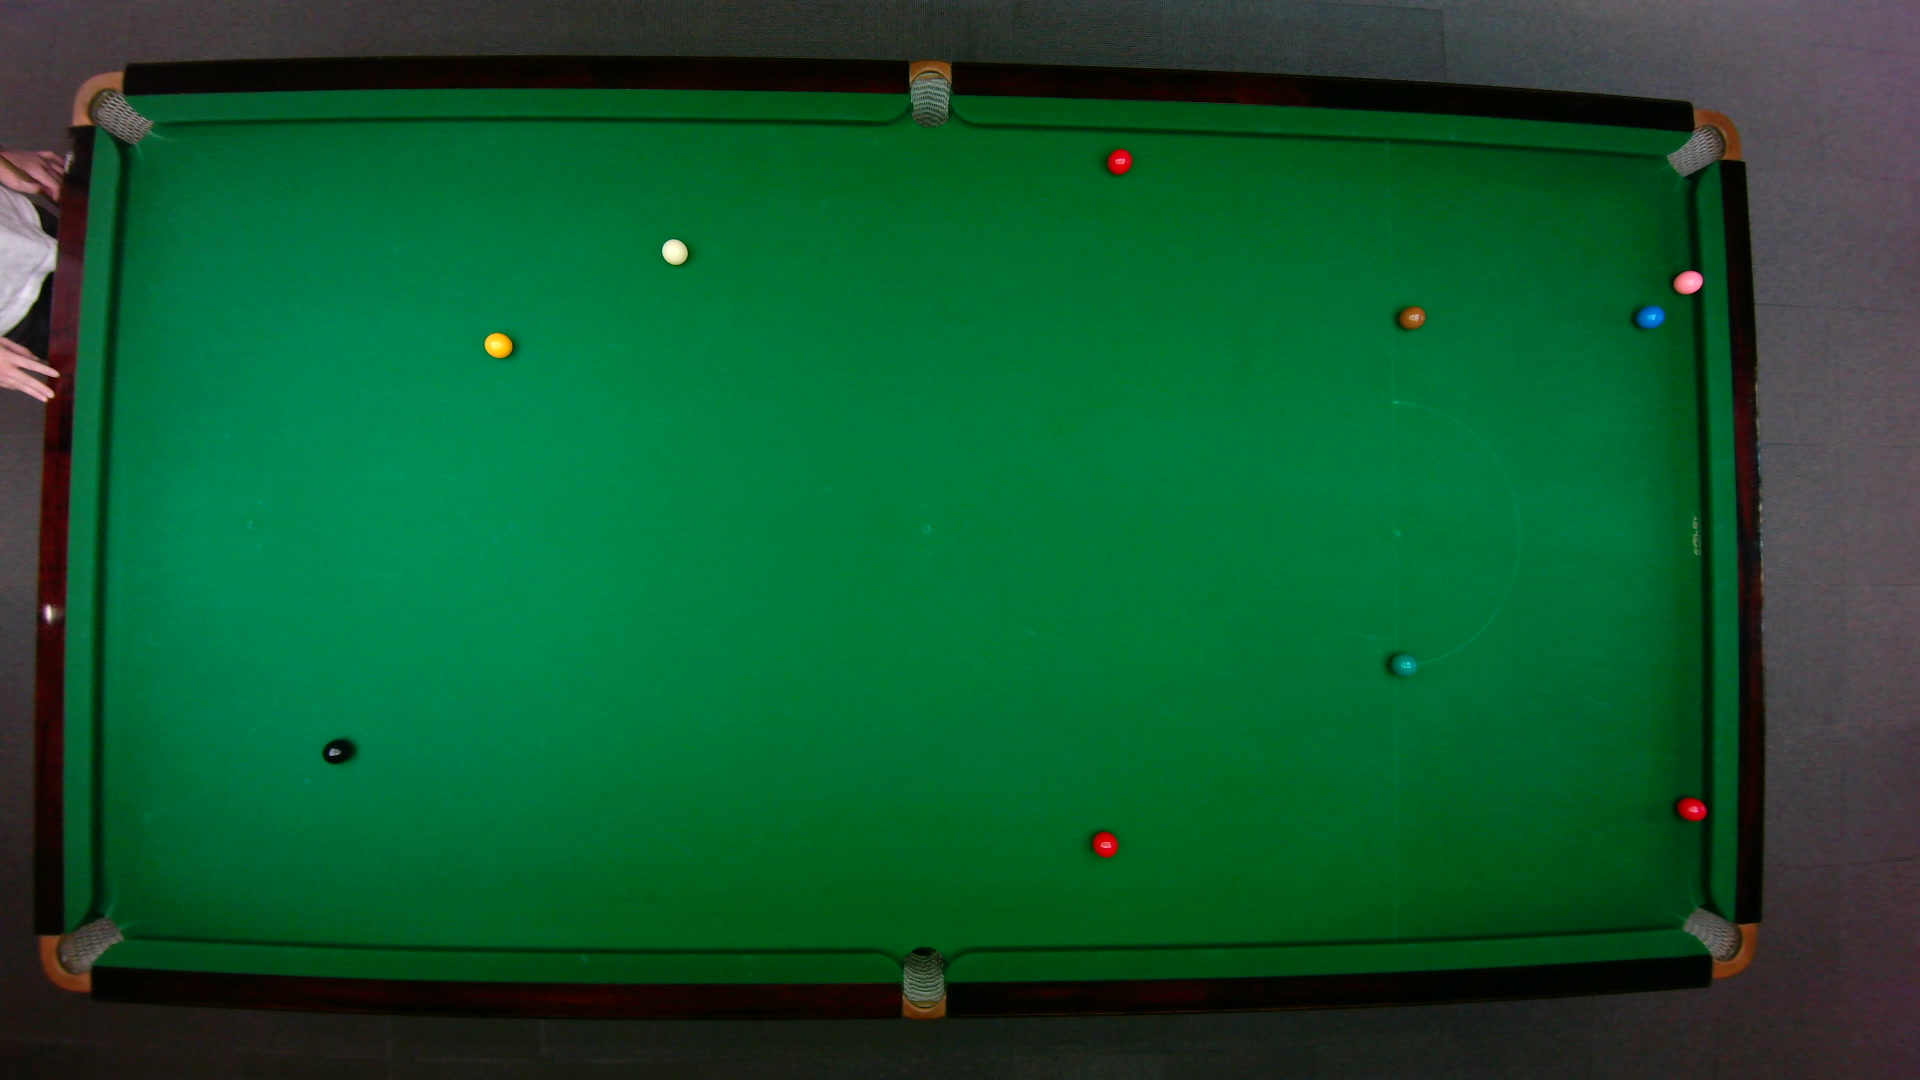bag: (37, 914, 125, 993), (69, 69, 153, 145), (1677, 905, 1756, 978), (1663, 108, 1741, 177), (901, 945, 944, 1021), (909, 57, 949, 128)
black: (320, 736, 352, 765)
blue: (1634, 303, 1665, 328)
brown: (1396, 305, 1427, 328)
green: (1389, 650, 1418, 676)
pink: (1669, 266, 1704, 295)
red: (1089, 828, 1120, 858), (1673, 795, 1708, 822), (1104, 146, 1133, 175)
white: (659, 236, 688, 265)
yellow: (481, 330, 513, 359)
zone: (1389, 400, 1520, 669)
